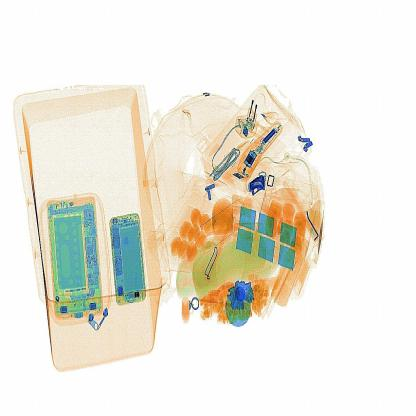knife: (248, 171, 268, 194)
